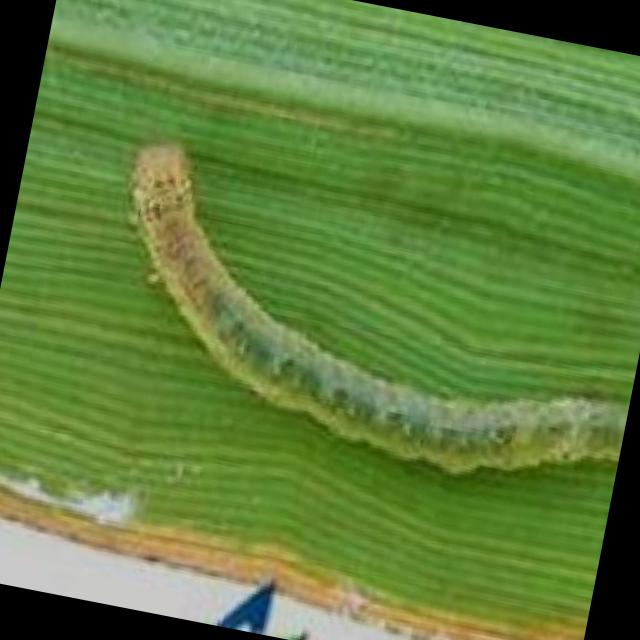leaf-folder: (81, 119, 640, 512)
